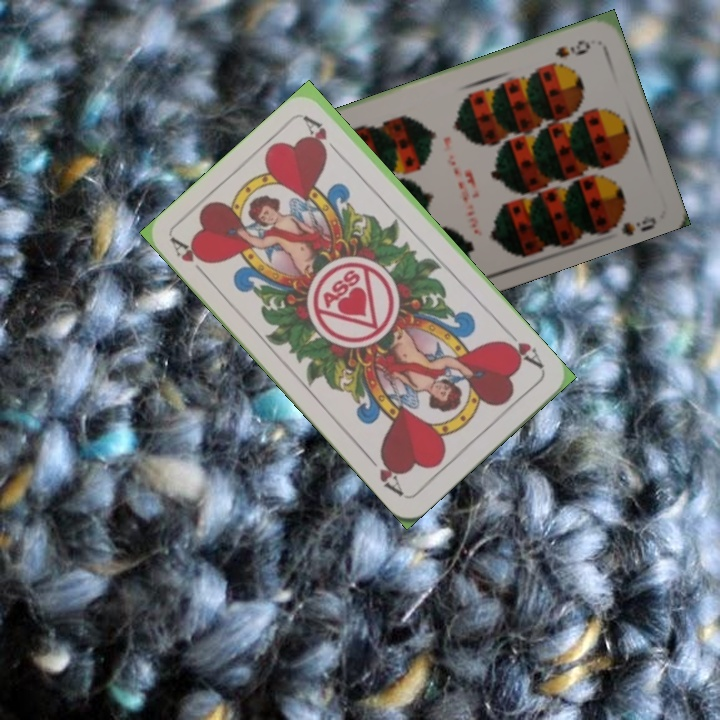HA: (497, 325, 547, 372), (168, 234, 213, 283)
S9: (551, 35, 593, 61)
